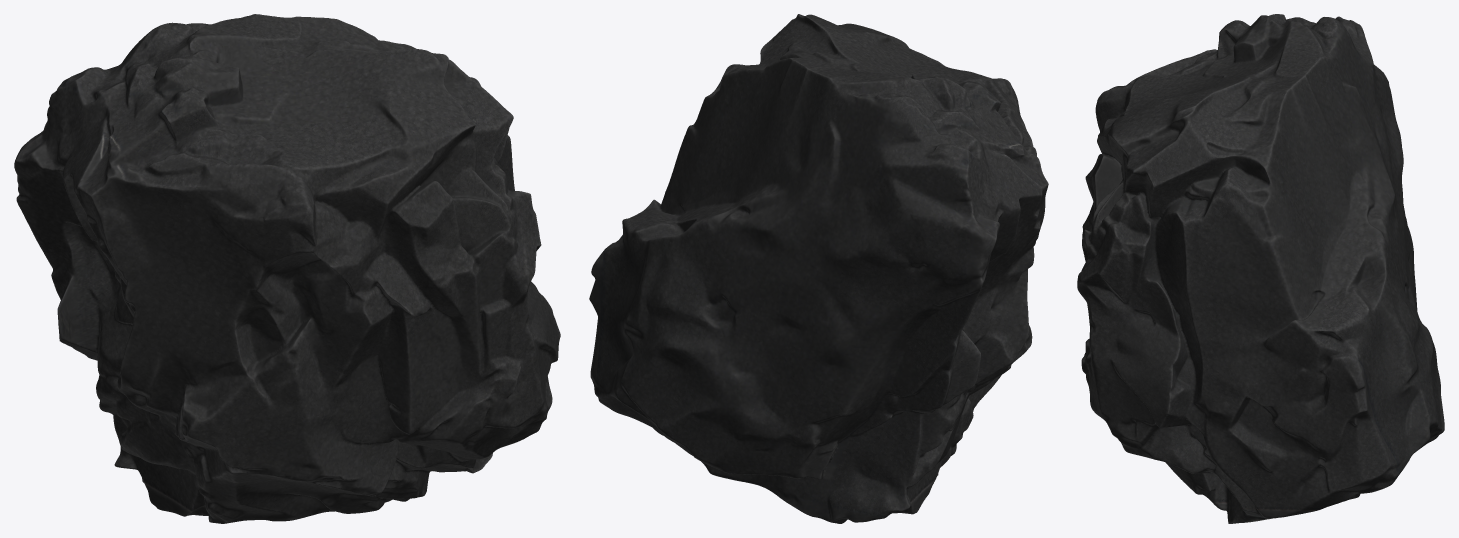
The model's file is Meshy_AI_Obsidian_Shard_Mounta_1005072910_texture.glb.
3 renders of one model, left to right at view 1: azimuth 30°, elevation 25°; view 2: azimuth 150°, elevation 25°; view 3: azimuth 270°, elevation 25°, orthographic. The views are drawn at different scales.
Size of the model in its own units: 1.9 by 1.87 by 1.52.
Materials: 1 (1 with a texture image).
